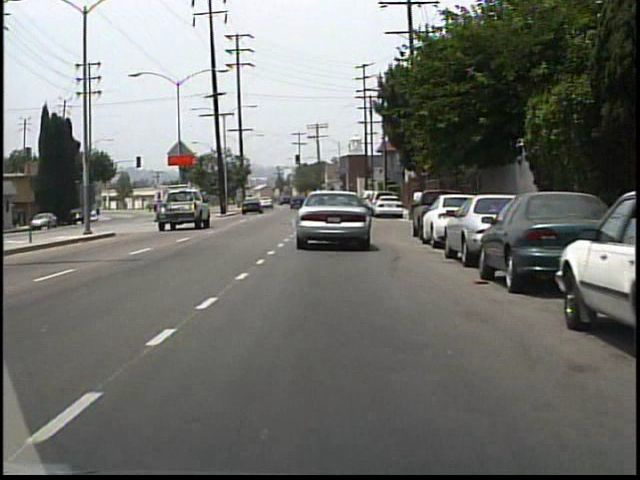person: (410, 183, 427, 226)
